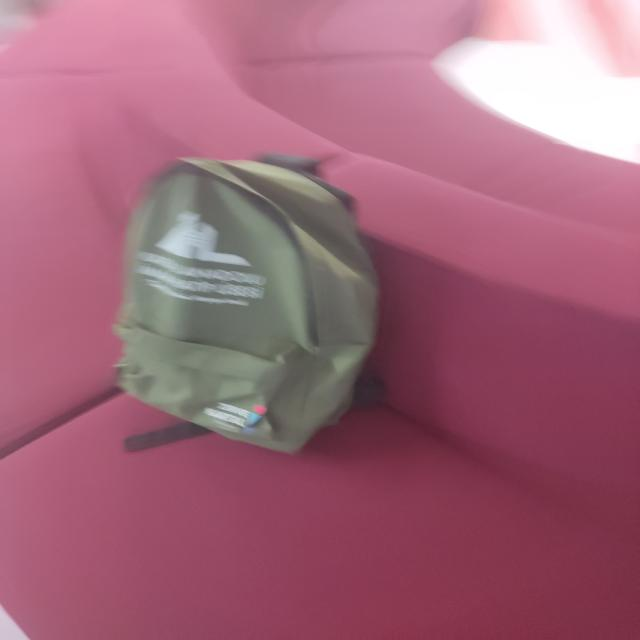bag: (117, 138, 390, 453)
